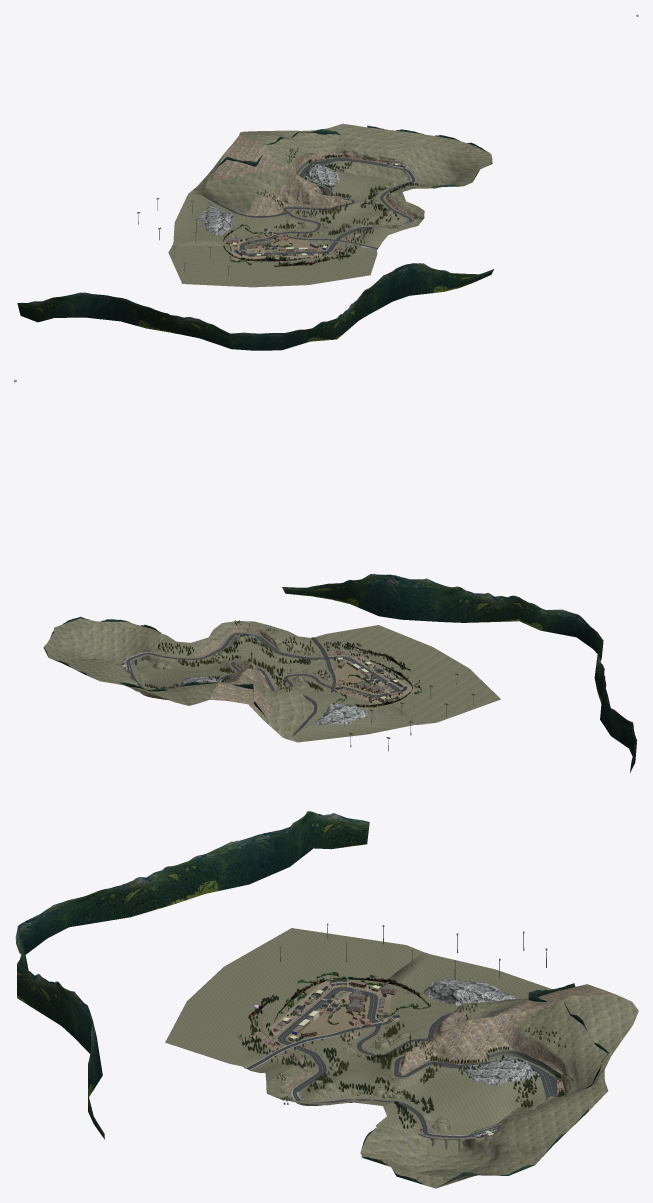
File: Map2.compressed.glb
The picture shows the model from 3 angles, top to bottom: view 1: azimuth 30°, elevation 25°; view 2: azimuth 150°, elevation 25°; view 3: azimuth 270°, elevation 25°; orthographic projection. The views are drawn at different scales.
Parts seen in each view (by area): view 1: env.003_soil_grass_0, env_rock02_grass_0, mountain_PIVOT_mountain_background_0, env.010_rock02_rock03_0, alphas.001_alpha_gl_0, road_road_PIVOT.001_road_0, env.007_rock04_soil_0, env.001_pavement_0, buildings_all_PIVOT.002_Material__8867.008_0, alphas.002_alpha_gl.001_0; view 2: env.003_soil_grass_0, mountain_PIVOT_mountain_background_0, env_rock02_grass_0, alphas.001_alpha_gl_0, env.010_rock02_rock03_0, road_road_PIVOT.001_road_0, env.007_rock04_soil_0, env.001_pavement_0, buildings_all_PIVOT.002_Material__8867.008_0; view 3: env.003_soil_grass_0, env_rock02_grass_0, mountain_PIVOT_mountain_background_0, env.010_rock02_rock03_0, alphas.001_alpha_gl_0, road_road_PIVOT.001_road_0, env.007_rock04_soil_0, env.001_pavement_0, buildings_all_PIVOT.002_Material__8867.008_0, alphas.002_alpha_gl.001_0, env.002_pavement02_0, env.006_road_clean.001_0.
Part boxes in pixels (bbox=[...]): env.003_soil_grass_0: bbox=[168, 156, 428, 287]; env_rock02_grass_0: bbox=[188, 123, 492, 234]; mountain_PIVOT_mountain_background_0: bbox=[17, 125, 494, 350]; env.010_rock02_rock03_0: bbox=[212, 135, 417, 221]; alphas.001_alpha_gl_0: bbox=[226, 147, 424, 266]; road_road_PIVOT.001_road_0: bbox=[240, 158, 415, 255]; env.007_rock04_soil_0: bbox=[198, 164, 339, 235]; env.001_pavement_0: bbox=[239, 159, 405, 256]; buildings_all_PIVOT.002_Material__8867.008_0: bbox=[227, 159, 399, 257]; alphas.002_alpha_gl.001_0: bbox=[223, 225, 350, 266]; env.003_soil_grass_0: bbox=[130, 621, 500, 742]; mountain_PIVOT_mountain_background_0: bbox=[43, 573, 637, 772]; env_rock02_grass_0: bbox=[44, 618, 327, 742]; alphas.001_alpha_gl_0: bbox=[144, 620, 421, 703]; env.010_rock02_rock03_0: bbox=[124, 626, 313, 723]; road_road_PIVOT.001_road_0: bbox=[124, 633, 400, 697]; env.007_rock04_soil_0: bbox=[180, 676, 368, 726]; env.001_pavement_0: bbox=[119, 650, 400, 699]; buildings_all_PIVOT.002_Material__8867.008_0: bbox=[122, 645, 407, 703]; env.003_soil_grass_0: bbox=[165, 928, 564, 1143]; env_rock02_grass_0: bbox=[283, 995, 638, 1188]; mountain_PIVOT_mountain_background_0: bbox=[15, 811, 608, 1186]; env.010_rock02_rock03_0: bbox=[284, 984, 617, 1130]; alphas.001_alpha_gl_0: bbox=[238, 972, 566, 1128]; road_road_PIVOT.001_road_0: bbox=[277, 987, 556, 1137]; env.007_rock04_soil_0: bbox=[423, 979, 539, 1085]; env.001_pavement_0: bbox=[259, 986, 560, 1139]; buildings_all_PIVOT.002_Material__8867.008_0: bbox=[253, 978, 563, 1135]; alphas.002_alpha_gl.001_0: bbox=[245, 975, 429, 1046]; env.002_pavement02_0: bbox=[269, 977, 391, 1035]; env.006_road_clean.001_0: bbox=[246, 1003, 559, 1138].
Size of the model in its own units: 2444 by 730 by 1400.
34 materials, 33 textured.
